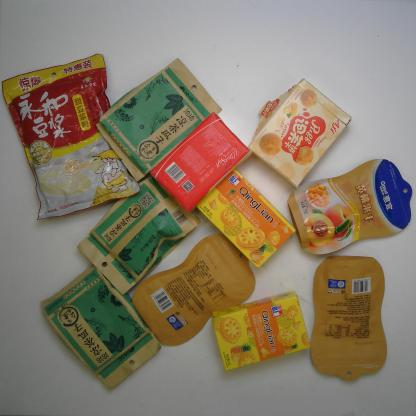Dessert: (242, 79, 354, 190), (197, 166, 297, 270), (212, 288, 312, 372)
Dried Food: (93, 56, 223, 182), (41, 261, 162, 393), (77, 173, 202, 296)
Dried Fruit: (130, 233, 258, 347), (286, 158, 413, 256), (309, 256, 388, 382)
Instant Drink: (1, 53, 141, 221)
Tissue: (147, 112, 252, 214)
